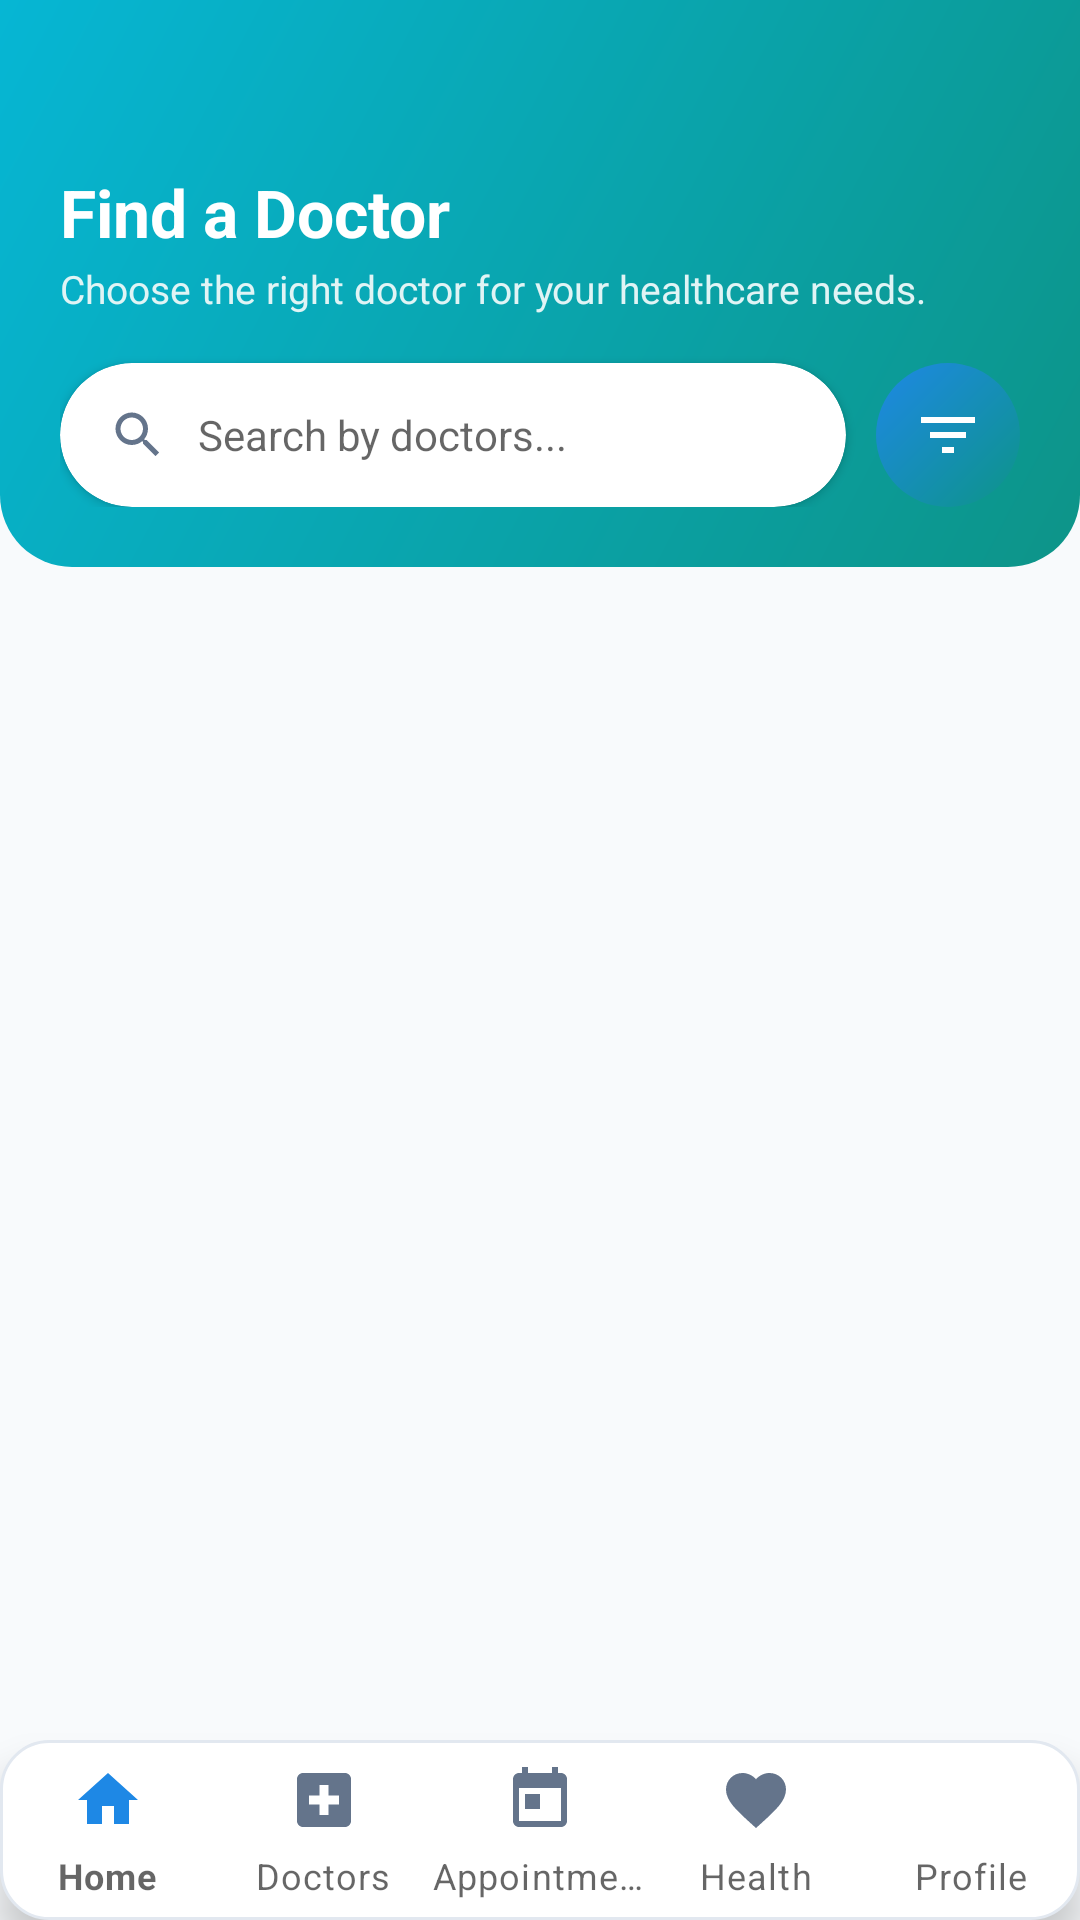

Icon bounding boxes for this 1080px x 1920px phone screenshot, format (x1, y1, x2, y2):
Filter: (876, 363, 1012, 499)
